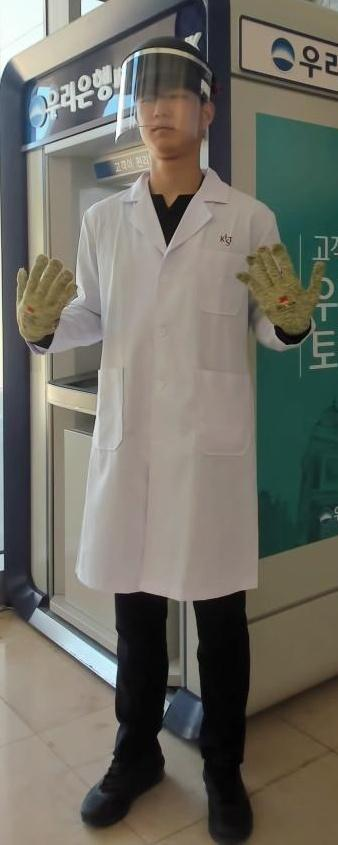lab_coat: (80, 194, 245, 588)
